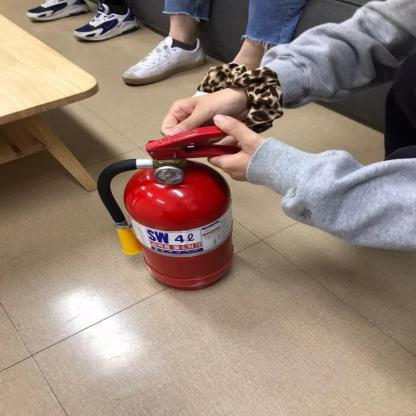Fire Extinguisher: (92, 112, 266, 301)
